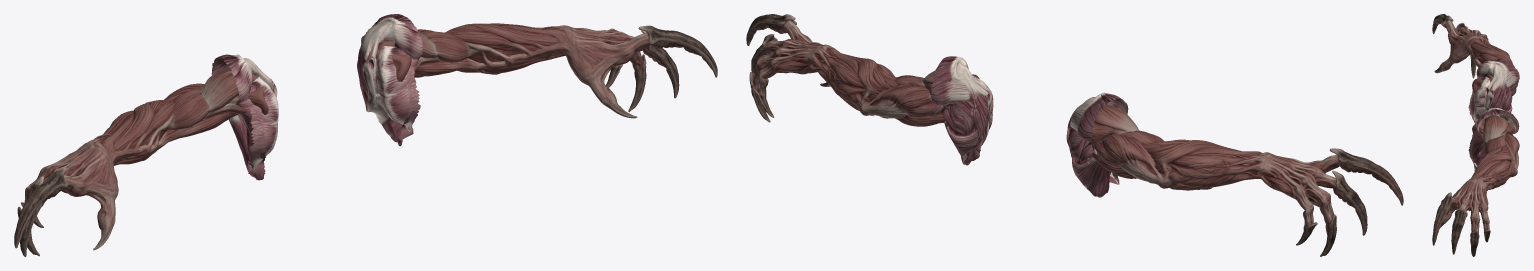
File: aethelred_braco_mutante_misto.glb
The picture shows the model from 3 angles, left to right: view 1: azimuth 30°, elevation 25°; view 2: azimuth 150°, elevation 25°; view 3: azimuth 270°, elevation 25°; orthographic projection. The views are drawn at different scales.
Visible parts, largest first — view 1: bracos; view 2: bracos; view 3: bracos.
Part boxes in pixels (x1,y1,x2,y2): bracos: [14, 14, 717, 256]; bracos: [746, 14, 1403, 256]; bracos: [1432, 14, 1519, 256].
Bounding box in the file's own units: 0.0219 × 0.00397 × 0.0038.
2 materials, 2 textured.
